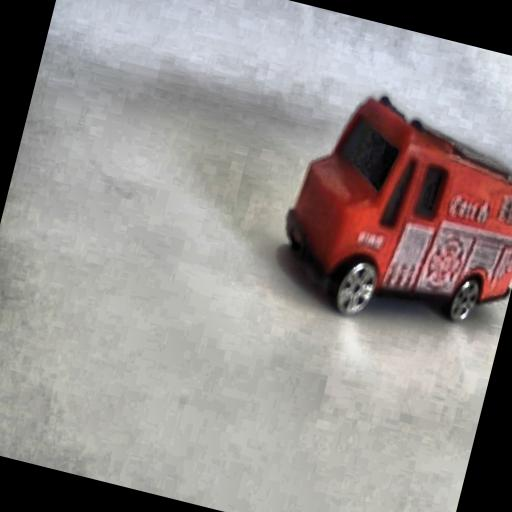fire_truck: (261, 74, 512, 353), (431, 155, 512, 234)
